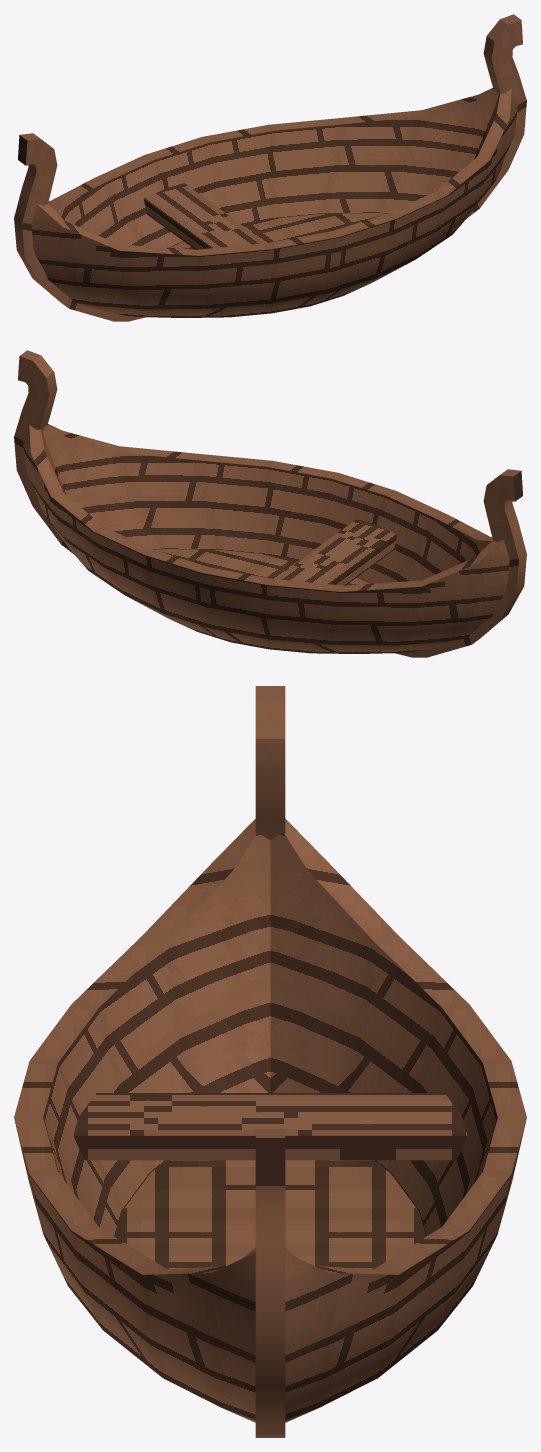
File: mdl_PlayerBoat.fbx
3 views of the same model, one above another, from view 1: azimuth 30°, elevation 25°; view 2: azimuth 150°, elevation 25°; view 3: azimuth 270°, elevation 25° (orthographic). The views are drawn at different scales.
Visible parts, largest first — view 1: Cube; view 2: Cube; view 3: Cube.
Part boxes in pixels (box(x1,y1,x2,y2)): Cube: box(14, 14, 526, 321); Cube: box(14, 350, 526, 657); Cube: box(14, 686, 526, 1437).
Size of the model in its own units: 0.7196 by 0.2801 by 0.3377.
